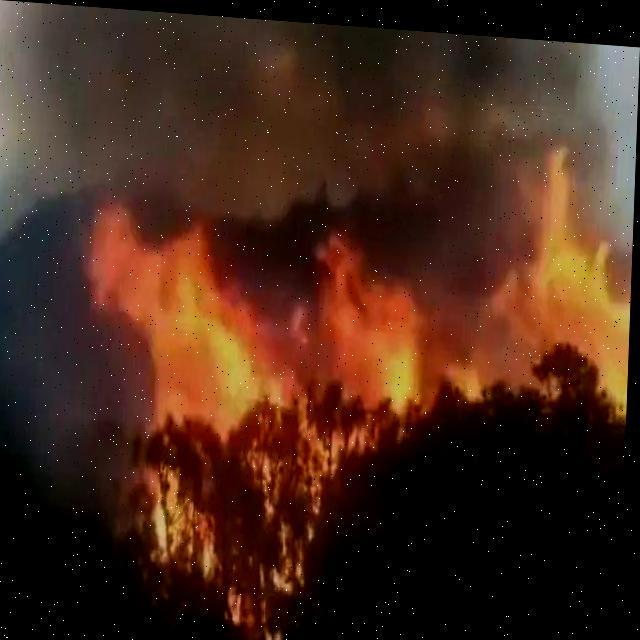Fire: (74, 186, 432, 639), (482, 127, 634, 400)
